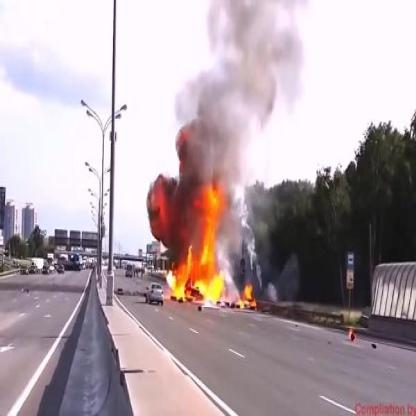fire: (150, 124, 260, 311)
